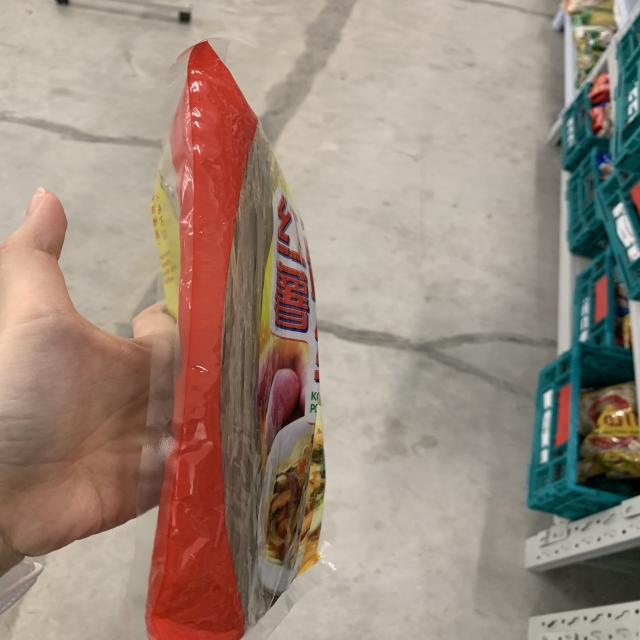object_name: (160, 56, 316, 634)
